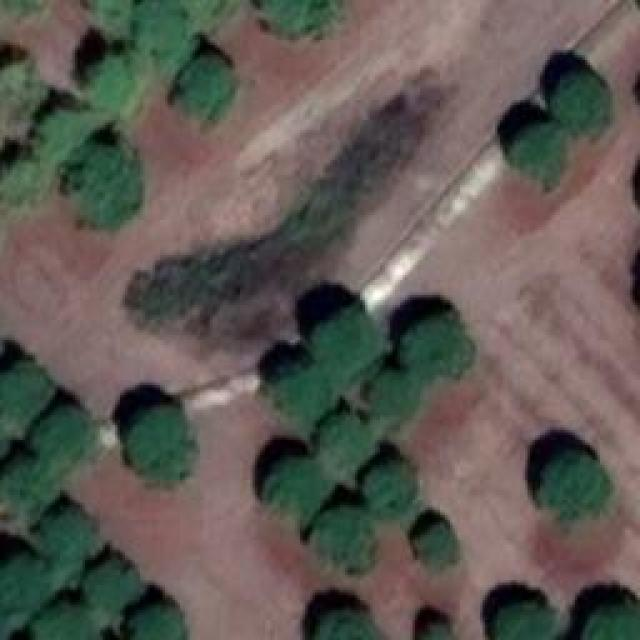Tree: (538, 448, 613, 522), (400, 313, 471, 385), (268, 455, 339, 526), (315, 503, 381, 579), (130, 405, 196, 481), (70, 145, 133, 216), (32, 507, 98, 574), (508, 110, 570, 180), (129, 0, 192, 64), (0, 462, 58, 531), (27, 103, 91, 162), (320, 310, 375, 378), (35, 411, 100, 468), (323, 420, 379, 481), (258, 0, 333, 44), (170, 60, 226, 116), (273, 368, 329, 423), (555, 78, 608, 133), (0, 359, 43, 422), (2, 560, 44, 624), (494, 595, 552, 639), (370, 473, 416, 528), (308, 607, 378, 640), (88, 55, 135, 104), (580, 600, 639, 639), (90, 563, 136, 613), (0, 150, 38, 206), (40, 602, 95, 640), (135, 600, 186, 640), (82, 0, 133, 38), (420, 522, 466, 561), (362, 375, 402, 417), (5, 50, 31, 97)
